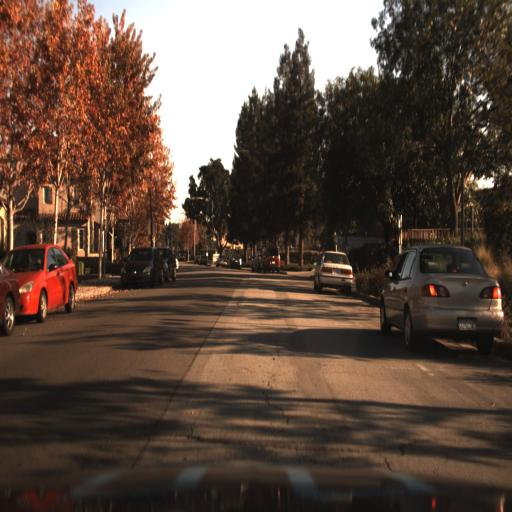car: (377, 242, 505, 355), (2, 245, 78, 323), (310, 247, 359, 294), (115, 241, 163, 288), (119, 241, 162, 292), (159, 247, 178, 282)
